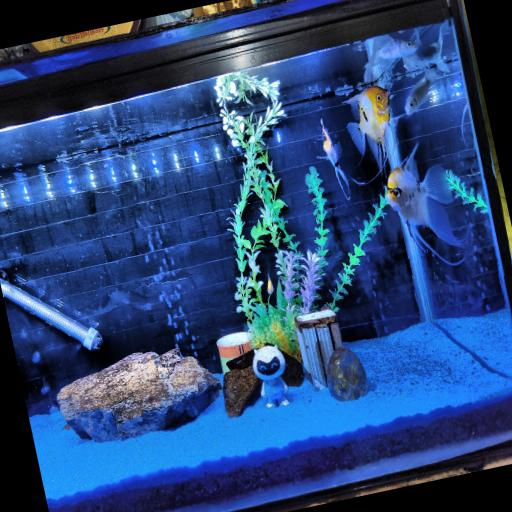Fish: (385, 144, 459, 264), (345, 87, 389, 171), (317, 121, 349, 199), (363, 35, 416, 82), (402, 24, 449, 72), (404, 70, 437, 115), (267, 276, 273, 295)
